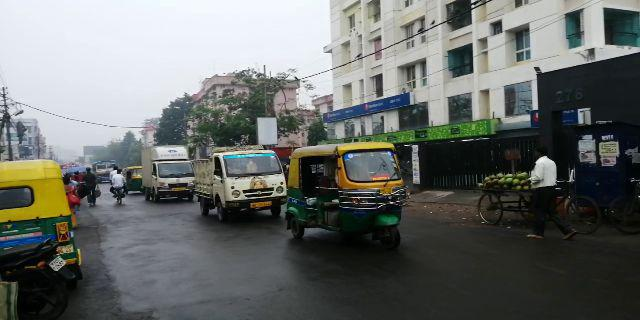Autorickshaw: (293, 144, 411, 248), (1, 154, 88, 282)
Minitruck: (196, 149, 283, 215), (142, 148, 194, 201)
